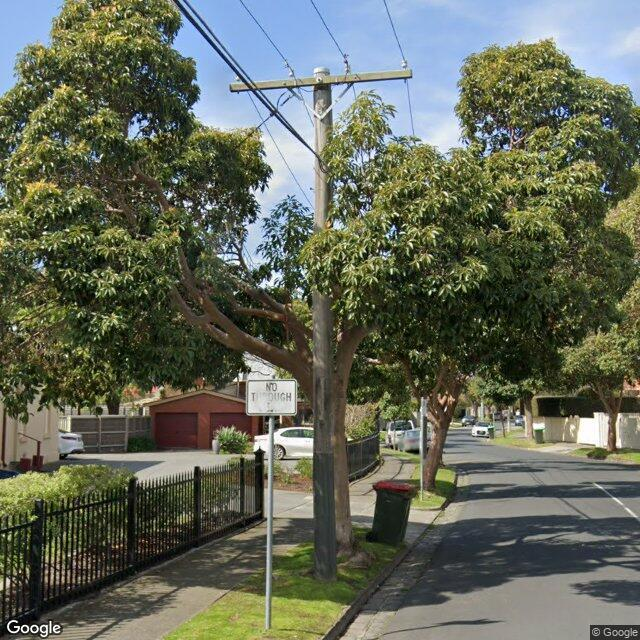crossarm: (230, 69, 412, 93)
timber-pole: (313, 67, 338, 581)
